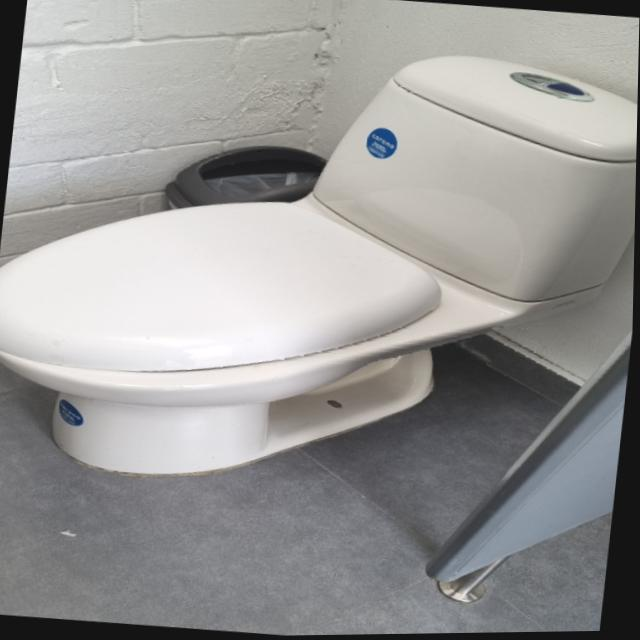toilet: (0, 15, 640, 517)
